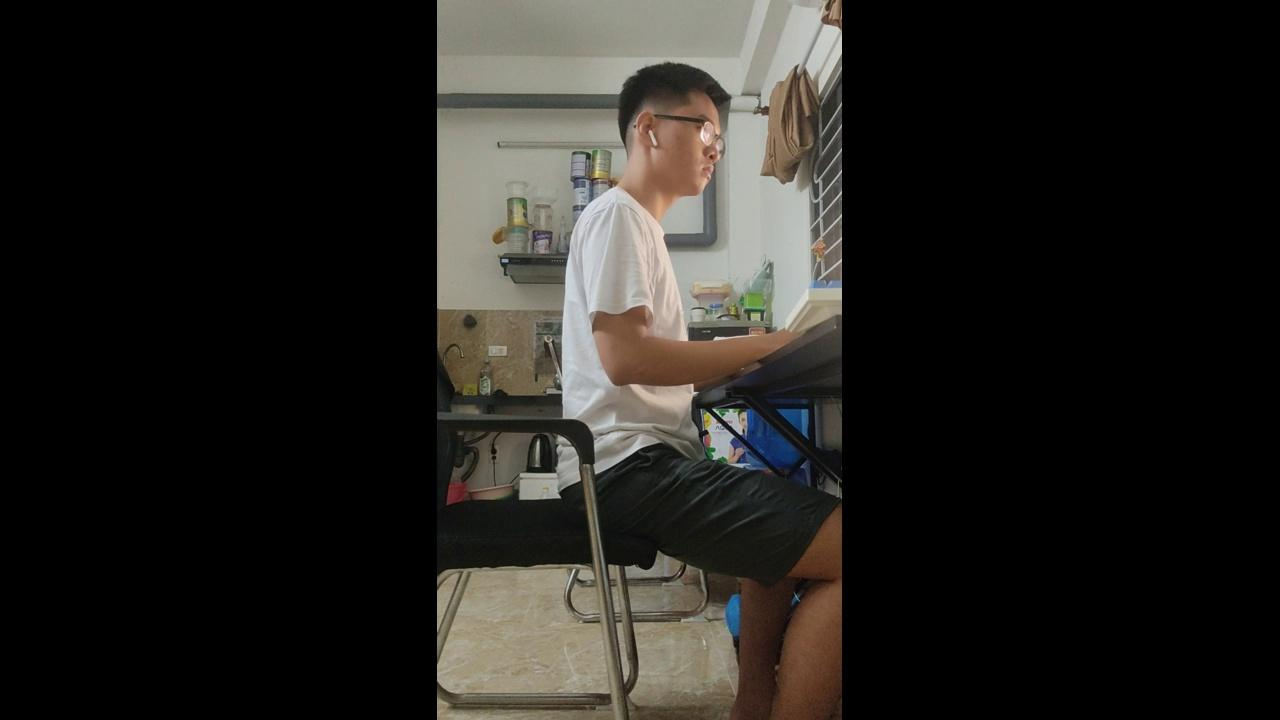GoodPosture: (562, 63, 846, 719), (562, 63, 728, 469)
